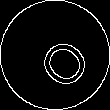O_NW: (21, 22, 89, 88)
